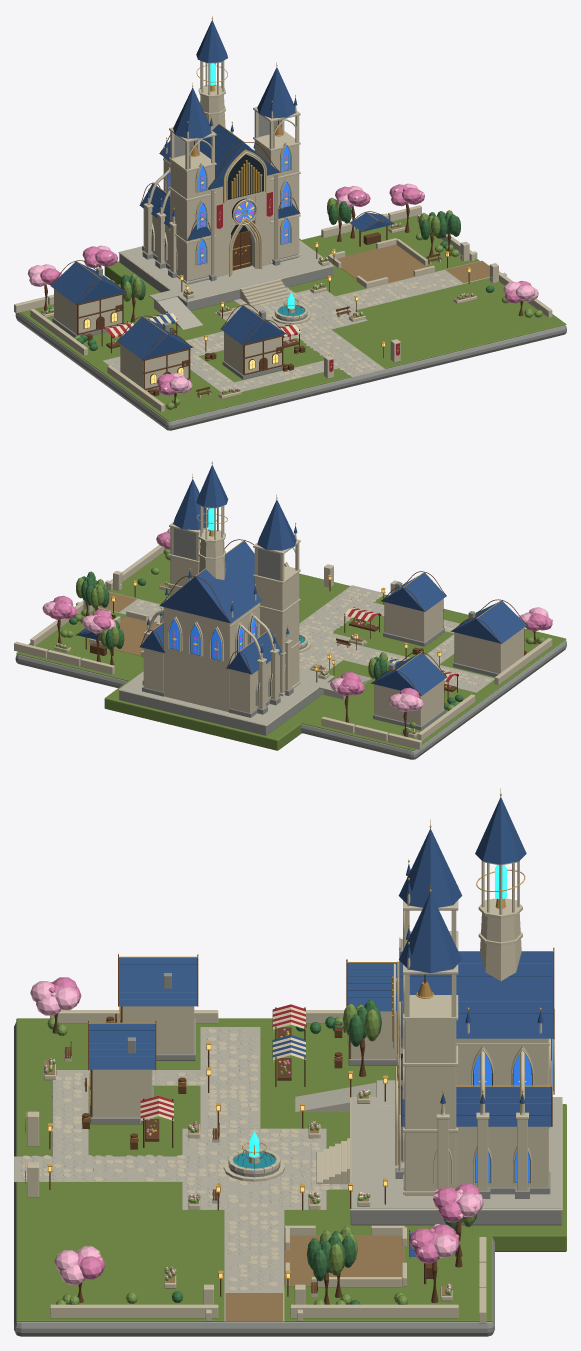
Rendered from RoyalKingdomCathedral.fbx.
3 renders of one model, top to bottom at view 1: azimuth 30°, elevation 25°; view 2: azimuth 150°, elevation 25°; view 3: azimuth 270°, elevation 25°, orthographic. The views are drawn at different scales.
Parts seen in each view (by area): view 1: EXPORT_Level district topsoil, EXPORT_Continuous 60m x 40m district terrain, EXPORT_Terrace continuous pale paving, EXPORT_Slender bell tower lower mass, EXPORT_Training courtyard • open 10m square, EXPORT_Blue shop gable, EXPORT_Blue shop gable.001, EXPORT_Continuous walkable paving base.005, EXPORT_Slender bell tower lower mass.001, EXPORT_Ivory plaster shop, EXPORT_Steep royal blue nave roof, EXPORT_Ivory plaster shop.001 (+22 smaller); view 2: EXPORT_Level district topsoil, EXPORT_Central nave rear body, EXPORT_Steep royal blue nave roof, EXPORT_Continuous 60m x 40m district terrain, EXPORT_Cathedral northward ground support, EXPORT_Slender bell tower lower mass, EXPORT_Ivory plaster shop.001, EXPORT_Cathedral terrace • 1.5m rise, EXPORT_Terrace continuous pale paving, EXPORT_Ivory plaster shop.002, EXPORT_Blue shop gable.001, EXPORT_Blue shop gable (+23 smaller); view 3: EXPORT_Level district topsoil, EXPORT_Steep royal blue nave roof, EXPORT_Continuous 60m x 40m district terrain, EXPORT_Slender bell tower lower mass.001, EXPORT_Terrace continuous pale paving, EXPORT_Continuous walkable paving base, EXPORT_Continuous walkable paving base.002, EXPORT_Blue shop gable.001, EXPORT_Continuous walkable paving base.005, EXPORT_Lower side aisle.001, EXPORT_Training courtyard • open 10m square, EXPORT_Stepped blue aisle roof.001 (+26 smaller).
Boxes of the visible parts, x1=… form: EXPORT_Level district topsoil: x1=20, y1=215, x2=566, y2=421; EXPORT_Continuous 60m x 40m district terrain: x1=15, y1=312, x2=566, y2=430; EXPORT_Terrace continuous pale paving: x1=120, y1=240, x2=333, y2=301; EXPORT_Slender bell tower lower mass: x1=170, y1=160, x2=214, y2=284; EXPORT_Training courtyard • open 10m square: x1=337, y1=244, x2=434, y2=287; EXPORT_Blue shop gable: x1=51, y1=261, x2=125, y2=304; EXPORT_Blue shop gable.001: x1=117, y1=316, x2=192, y2=359; EXPORT_Continuous walkable paving base.005: x1=335, y1=260, x2=489, y2=310; EXPORT_Slender bell tower lower mass.001: x1=254, y1=140, x2=299, y2=258; EXPORT_Ivory plaster shop: x1=54, y1=289, x2=122, y2=334; EXPORT_Steep royal blue nave roof: x1=160, y1=124, x2=279, y2=189; EXPORT_Ivory plaster shop.001: x1=120, y1=344, x2=188, y2=388; EXPORT_Level district topsoil: x1=16, y1=548, x2=566, y2=750; EXPORT_Central nave rear body: x1=163, y1=602, x2=259, y2=711; EXPORT_Steep royal blue nave roof: x1=160, y1=540, x2=261, y2=622; EXPORT_Continuous 60m x 40m district terrain: x1=15, y1=640, x2=566, y2=759; EXPORT_Cathedral northward ground support: x1=104, y1=676, x2=306, y2=750; EXPORT_Slender bell tower lower mass: x1=254, y1=572, x2=299, y2=696; EXPORT_Ivory plaster shop.001: x1=454, y1=628, x2=523, y2=673; EXPORT_Cathedral terrace • 1.5m rise: x1=119, y1=678, x2=333, y2=735; EXPORT_Terrace continuous pale paving: x1=120, y1=667, x2=332, y2=725; EXPORT_Ivory plaster shop.002: x1=384, y1=599, x2=443, y2=641; EXPORT_Blue shop gable.001: x1=452, y1=600, x2=526, y2=643; EXPORT_Blue shop gable: x1=372, y1=652, x2=446, y2=695; EXPORT_Level district topsoil: x1=16, y1=1018, x2=492, y2=1321; EXPORT_Steep royal blue nave roof: x1=400, y1=952, x2=553, y2=1038; EXPORT_Continuous 60m x 40m district terrain: x1=14, y1=1022, x2=494, y2=1336; EXPORT_Slender bell tower lower mass.001: x1=404, y1=1020, x2=456, y2=1195; EXPORT_Terrace continuous pale paving: x1=351, y1=1097, x2=561, y2=1208; EXPORT_Continuous walkable paving base: x1=182, y1=1128, x2=326, y2=1209; EXPORT_Continuous walkable paving base.002: x1=200, y1=1027, x2=260, y2=1128; EXPORT_Blue shop gable.001: x1=119, y1=957, x2=197, y2=1006; EXPORT_Continuous walkable paving base.005: x1=224, y1=1209, x2=284, y2=1321; EXPORT_Lower side aisle.001: x1=456, y1=1128, x2=548, y2=1187; EXPORT_Training courtyard • open 10m square: x1=284, y1=1235, x2=404, y2=1286; EXPORT_Stepped blue aisle roof.001: x1=402, y1=1087, x2=551, y2=1126.
Size of the model in its own units: 60.8 by 36.6 by 46.
